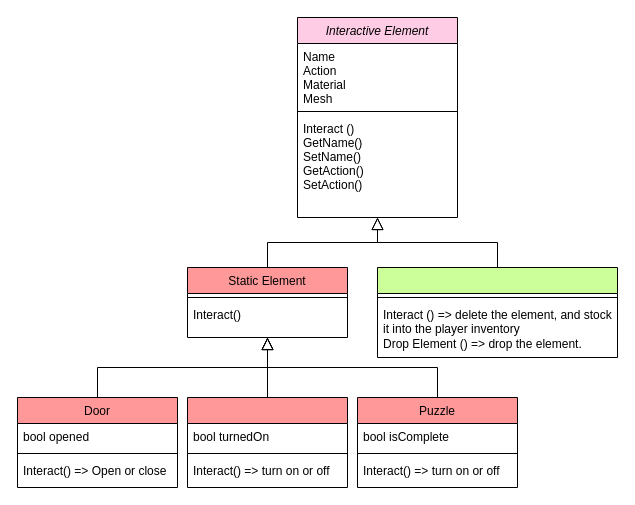
The diagram is 635 pixels wide and 505 high, and some of its shapes have lost their labels. Here are the shapes that lost their labels. From the top down, the box of each, then its label:
(376, 266, 618, 358): Movable Element
(186, 396, 348, 488): Switch
